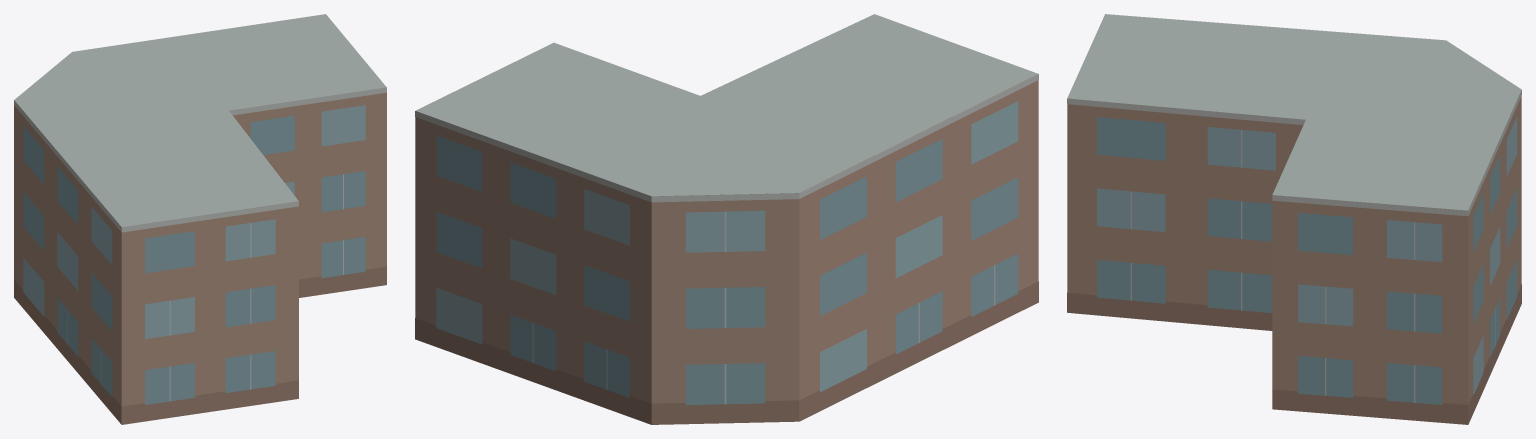
Rendered from survey-upis-32794657.glb.
3 views of the same model, side by side, from view 1: azimuth 30°, elevation 25°; view 2: azimuth 150°, elevation 25°; view 3: azimuth 270°, elevation 25° (orthographic). The views are drawn at different scales.
Parts seen in each view (by area): view 1: survey-upis-32794657.tmp; view 2: survey-upis-32794657.tmp; view 3: survey-upis-32794657.tmp.
Boxes of the visible parts, bbox=[...] form: survey-upis-32794657.tmp: bbox=[14, 14, 386, 424]; survey-upis-32794657.tmp: bbox=[415, 14, 1038, 424]; survey-upis-32794657.tmp: bbox=[1067, 14, 1521, 424].
Bounding box in the file's own units: 18.02 × 9.15 × 17.61.
